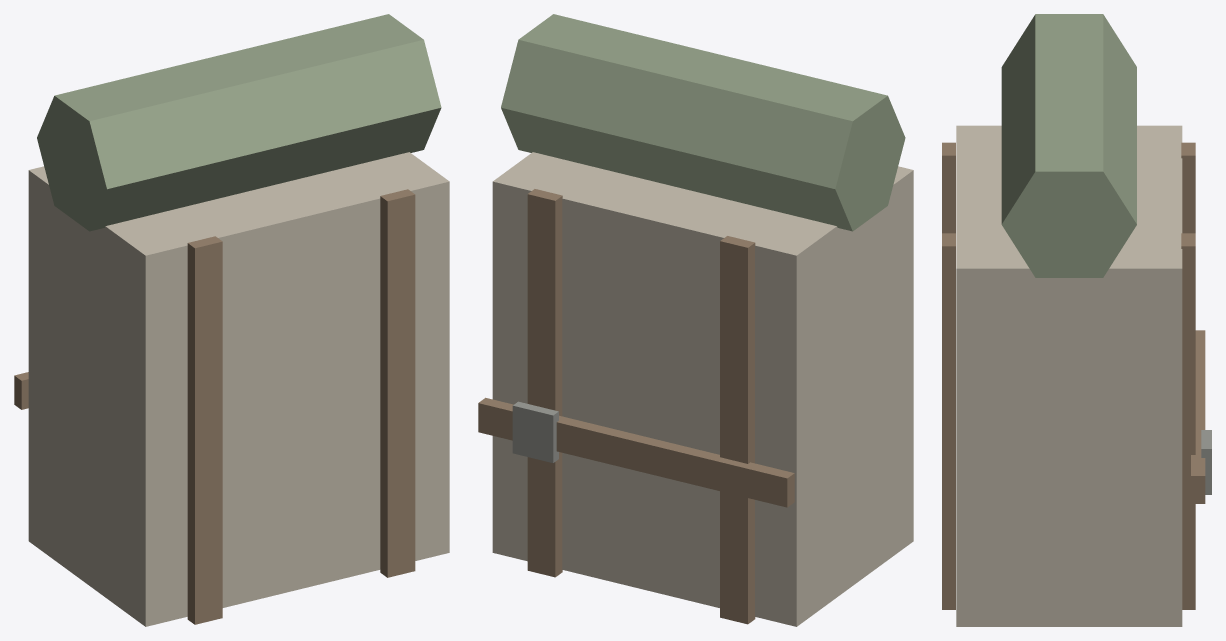
The model's file is trade-pack.glb.
3 renders of one model, left to right at view 1: azimuth 30°, elevation 25°; view 2: azimuth 150°, elevation 25°; view 3: azimuth 270°, elevation 25°, orthographic. The views are drawn at different scales.
Visible parts, largest first — view 1: trade_pack; view 2: trade_pack; view 3: trade_pack.
Boxes of the visible parts, bbox=[...] form: trade_pack: bbox=[14, 14, 449, 626]; trade_pack: bbox=[478, 14, 913, 626]; trade_pack: bbox=[942, 14, 1211, 626].
Size of the model in its own units: 0.22 by 0.303 by 0.1593.
